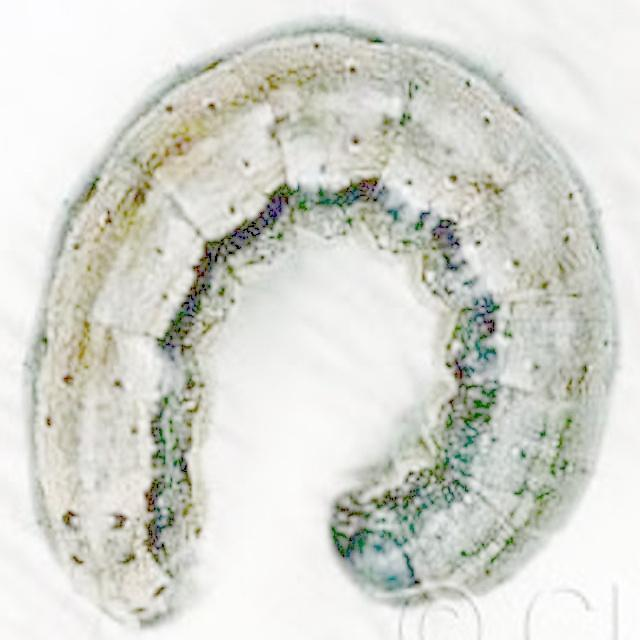worm: (24, 19, 621, 631)
